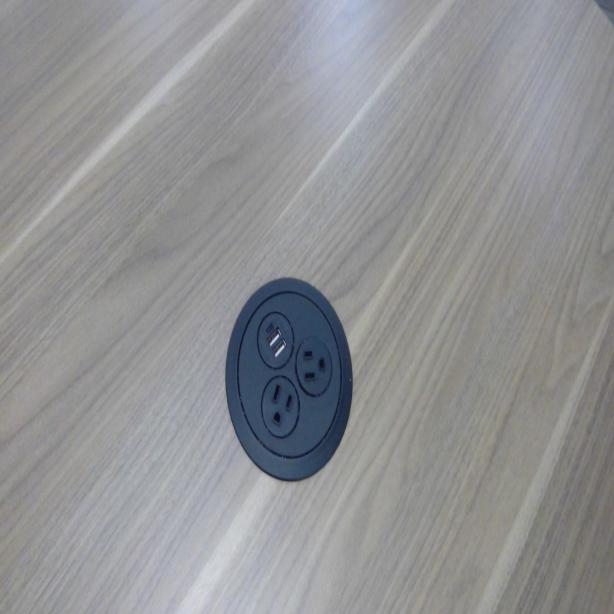typeb: (300, 338, 332, 390), (264, 382, 296, 432)
